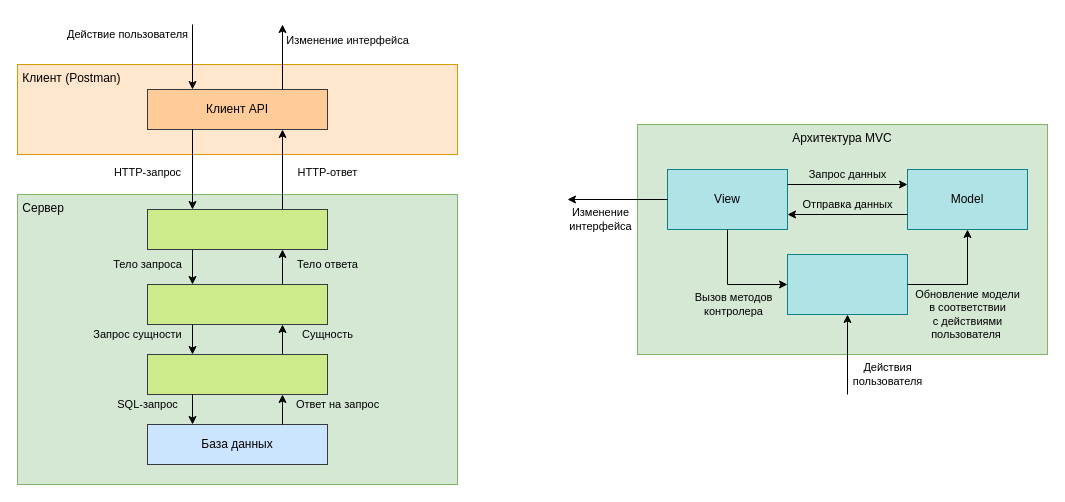
This 1065x502 diagram has some shape labels left out. The shapes that lost their labels are listed below. From the top down, each one's centre as x and y in pixels, then its label:
At point 237,229: "REST-контроллеры".
At point 237,304: "Сервисы".
At point 847,284: "Controller".
At point 237,374: "Репозитории".
